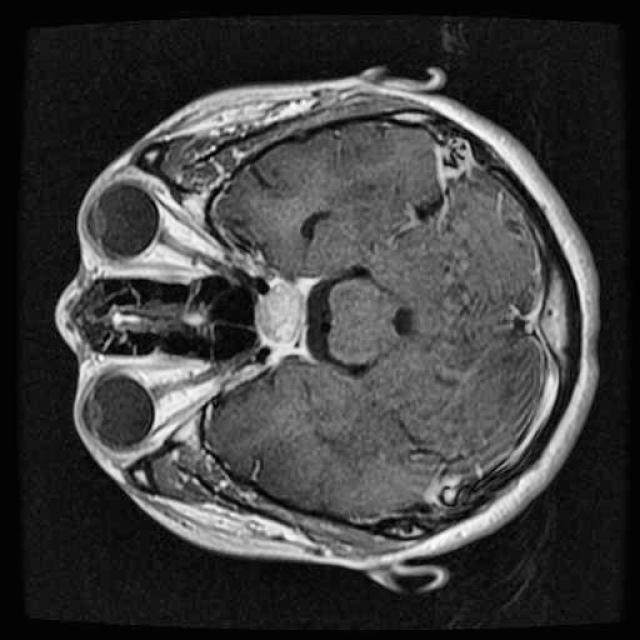Tumor: (245, 268, 318, 364)
